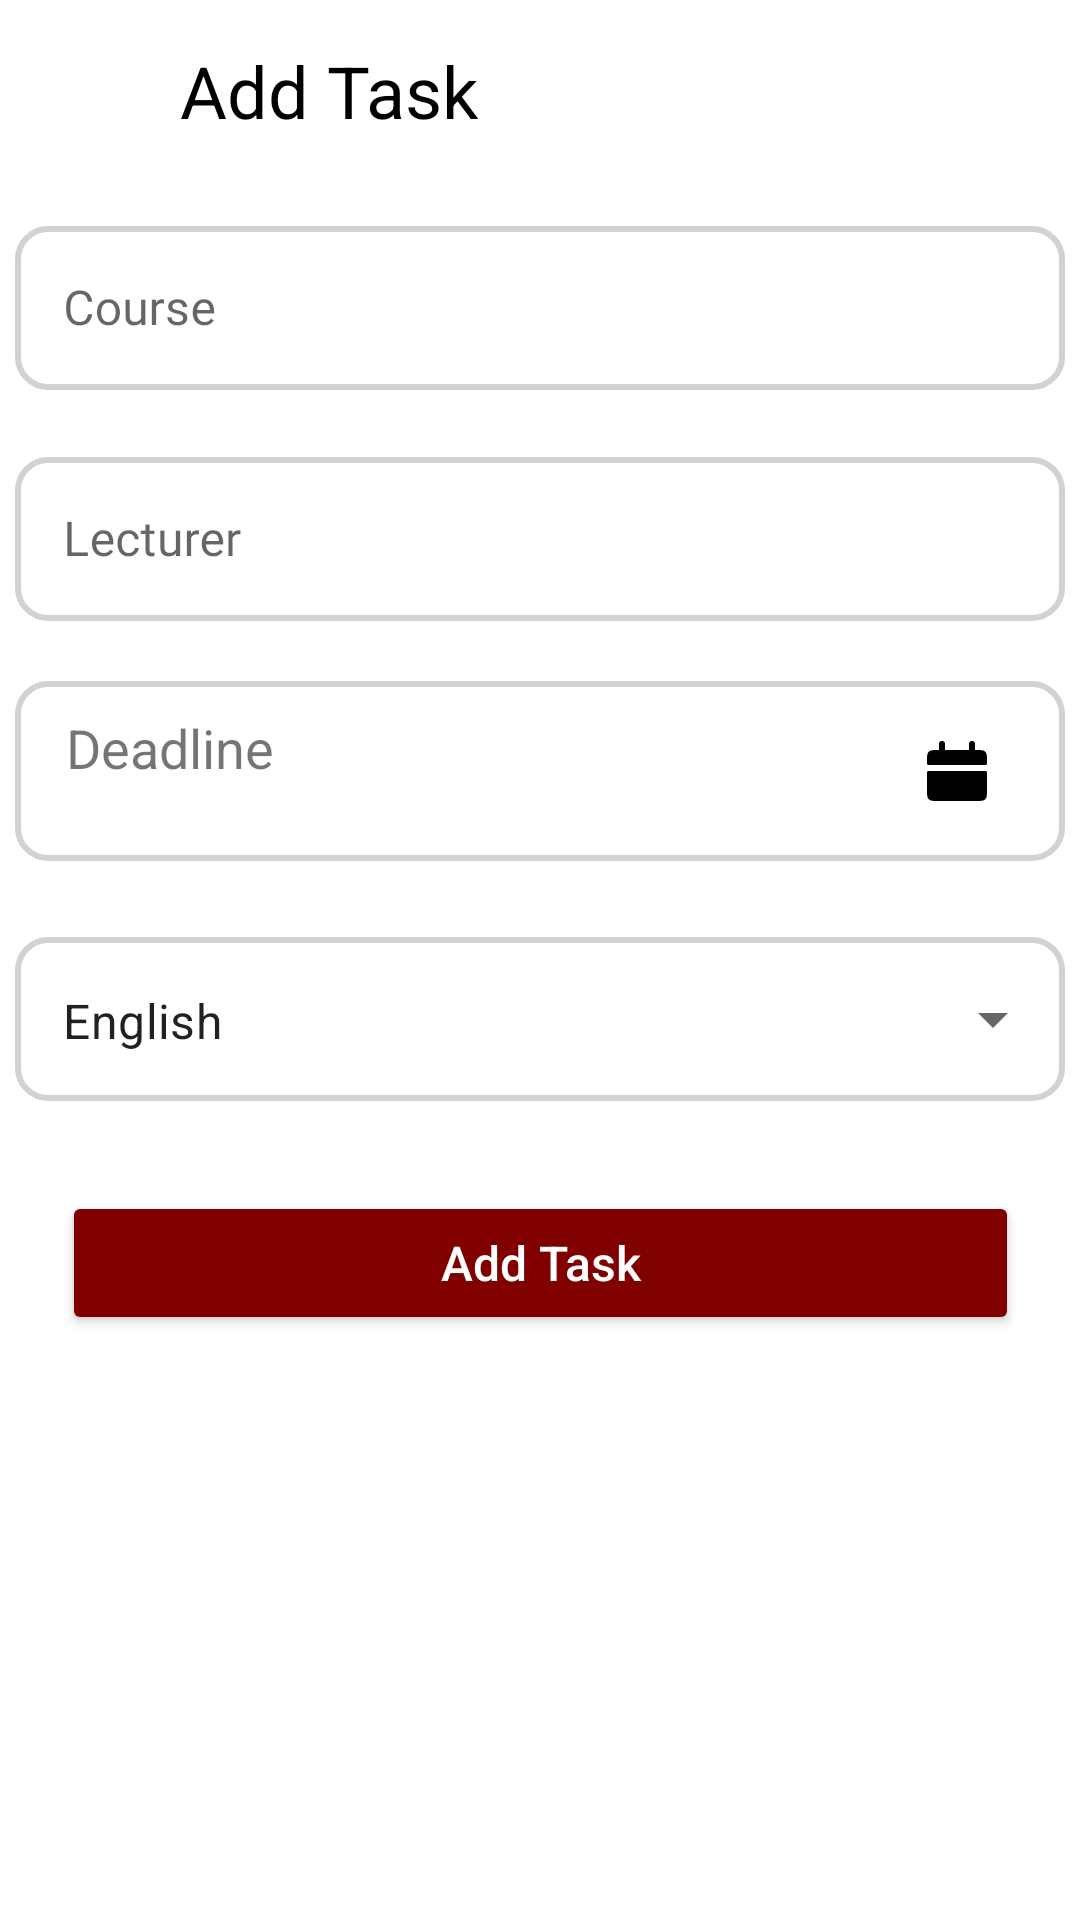

Icon bounding boxes for this 1080*1920 phone screenshot, format rect(x1, y1, x2, y2):
Select Date: rect(927, 741, 987, 801)
